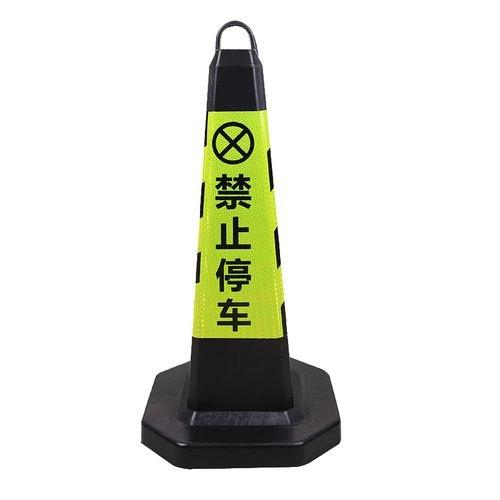cone_barrel: (148, 30, 315, 451)
